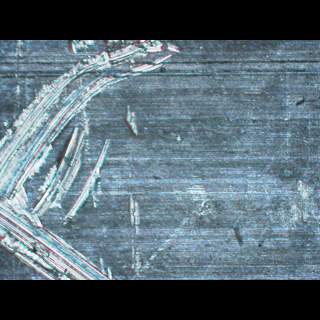d: (0, 40, 185, 279)
